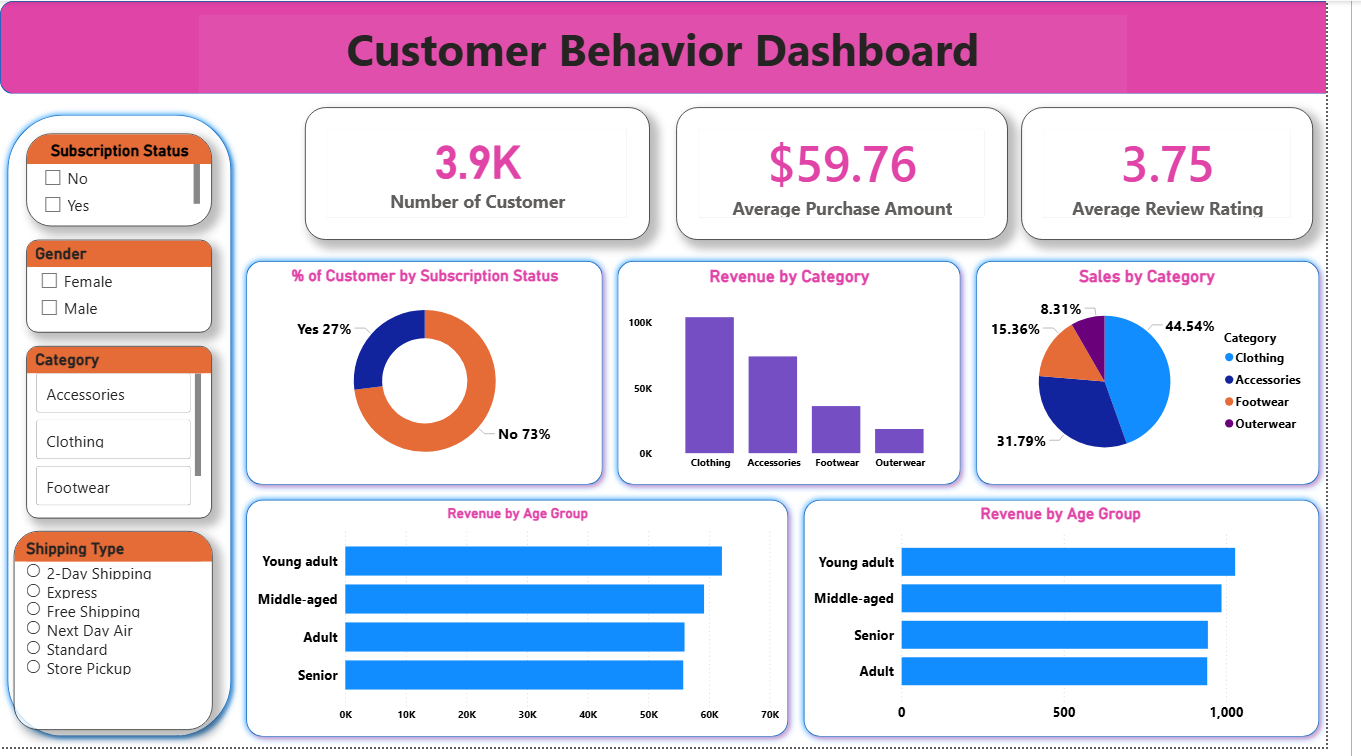

What the dashboard file says about the page in this screenshot:
{"tool":"powerbi","page":{"name":"Page 1","canvas":[1600,900],"ordinal":0},"visuals":[{"type":"cardVisual","fields":{"Data":["Customer_behavior.Number of Customer"]},"box":[368,128,416,160],"z":0},{"type":"cardVisual","fields":{"Data":["Customer_behavior.Average Review Rating"]},"box":[1232,128,352,160],"z":1000},{"type":"cardVisual","fields":{"Data":["Customer_behavior.Average Purchase Amount"]},"box":[816,128,400,160],"z":2000},{"type":"shape","box":[0,0,2176,112],"z":3000},{"type":"textbox","box":[16,478,288,176],"z":4000},{"type":"textbox","box":[240,16,1120,96],"z":5000},{"type":"shape","box":[288,304,448,288],"z":6000},{"type":"donutChart","title":"% of Customer by Subscription Status","fields":{"Category":["Customer_behavior.subscription_status"],"Y":["CountNonNull(Customer_behavior.customer_id)"]},"box":[304,320,416,256],"z":7000},{"type":"shape","box":[736,304,432,288],"z":8000},{"type":"shape","box":[1168,304,432,288],"z":9000},{"type":"clusteredColumnChart","title":"Revenue by Category","fields":{"Y":["Sum(Customer_behavior.purchased_amount)"],"Category":["Customer_behavior.category"]},"box":[752,320,400,256],"z":10000},{"type":"pieChart","title":"Sales by Category","fields":{"Category":["Customer_behavior.category"],"Y":["CountNonNull(Customer_behavior.customer_id)"]},"box":[1184,320,400,256],"z":11000},{"type":"shape","box":[0,128,288,768],"z":12000},{"type":"slicer","title":"Subscription Status","fields":{"Values":["Customer_behavior.subscription_status"]},"box":[32,160,224,112],"z":13000},{"type":"advancedSlicerVisual","title":"Category","fields":{"Values":["Customer_behavior.category"]},"box":[32,416,224,208],"z":14000},{"type":"listSlicer","title":"Shipping Type","fields":{"Values":["Customer_behavior.shipping_type"]},"box":[16,640,240,240],"z":15000},{"type":"shape","box":[288,592,672,304],"z":16000},{"type":"shape","box":[960,592,640,304],"z":17000},{"type":"clusteredBarChart","title":"Revenue by Age Group","fields":{"Y":["Sum(Customer_behavior.purchased_amount)"],"Category":["Customer_behavior.age_group"]},"box":[304,608,640,272],"z":18000},{"type":"clusteredBarChart","title":"Revenue by Age Group","fields":{"Category":["Customer_behavior.age_group"],"Y":["CountNonNull(Customer_behavior.customer_id)"]},"box":[976,608,608,272],"z":19000},{"type":"slicer","title":"Gender","fields":{"Values":["Customer_behavior.gender"]},"box":[32,288,224,112],"z":20000}]}

Visuals, with their boxes in screenshot pixels (x1, y1, x2, y2), scaled from the page's 1600x900 canvas onto the 1361x756 screenshot:
cardVisual - Customer_behavior.Number of Customer: 313 108 667 242
cardVisual - Customer_behavior.Average Review Rating: 1048 108 1347 242
cardVisual - Customer_behavior.Average Purchase Amount: 694 108 1034 242
shape: 0 0 1360 94
textbox: 14 402 259 549
textbox: 204 13 1157 94
shape: 245 255 626 497
"% of Customer by Subscription Status" donutChart: 259 269 612 484
shape: 626 255 994 497
shape: 994 255 1360 497
"Revenue by Category" clusteredColumnChart: 640 269 980 484
"Sales by Category" pieChart: 1007 269 1347 484
shape: 0 108 245 753
"Subscription Status" slicer: 27 134 218 228
"Category" advancedSlicerVisual: 27 349 218 524
"Shipping Type" listSlicer: 14 538 218 739
shape: 245 497 817 753
shape: 817 497 1360 753
"Revenue by Age Group" clusteredBarChart: 259 511 803 739
"Revenue by Age Group" clusteredBarChart: 830 511 1347 739
"Gender" slicer: 27 242 218 336
